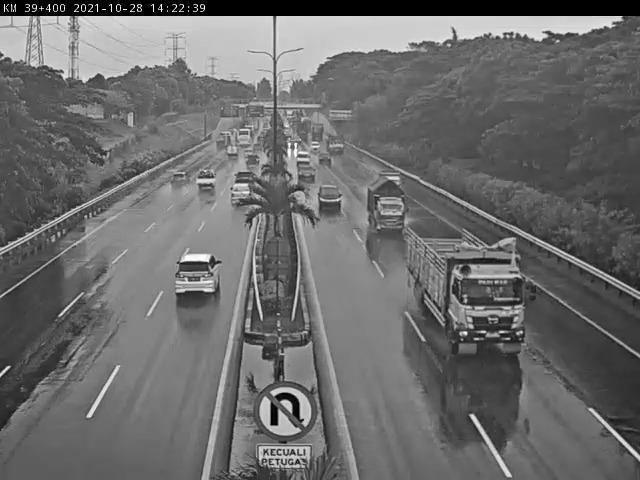big truck: (422, 246, 538, 362)
car: (171, 249, 222, 303), (315, 183, 344, 213), (194, 167, 217, 193), (230, 183, 251, 208), (233, 170, 257, 191), (296, 163, 317, 185), (167, 170, 189, 189), (294, 150, 313, 167), (317, 149, 333, 169)
small truck: (365, 178, 408, 235), (219, 131, 236, 145), (224, 142, 240, 156)
